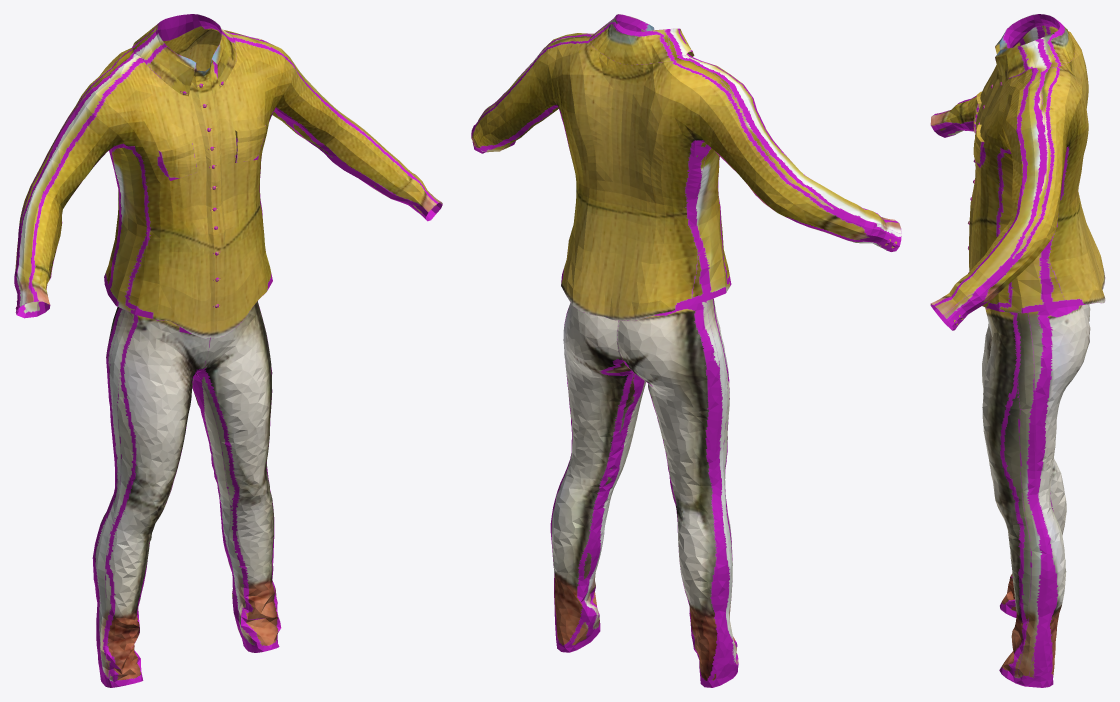
3 views of the same model, side by side, from view 1: azimuth 30°, elevation 25°; view 2: azimuth 150°, elevation 25°; view 3: azimuth 270°, elevation 25° (orthographic). The views are drawn at different scales.
Size of the model in its own units: 0.6798 by 0.9787 by 0.2482.
Materials: 1 (1 with a texture image).
